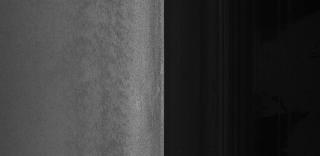silk spot: (99, 17, 140, 137)
